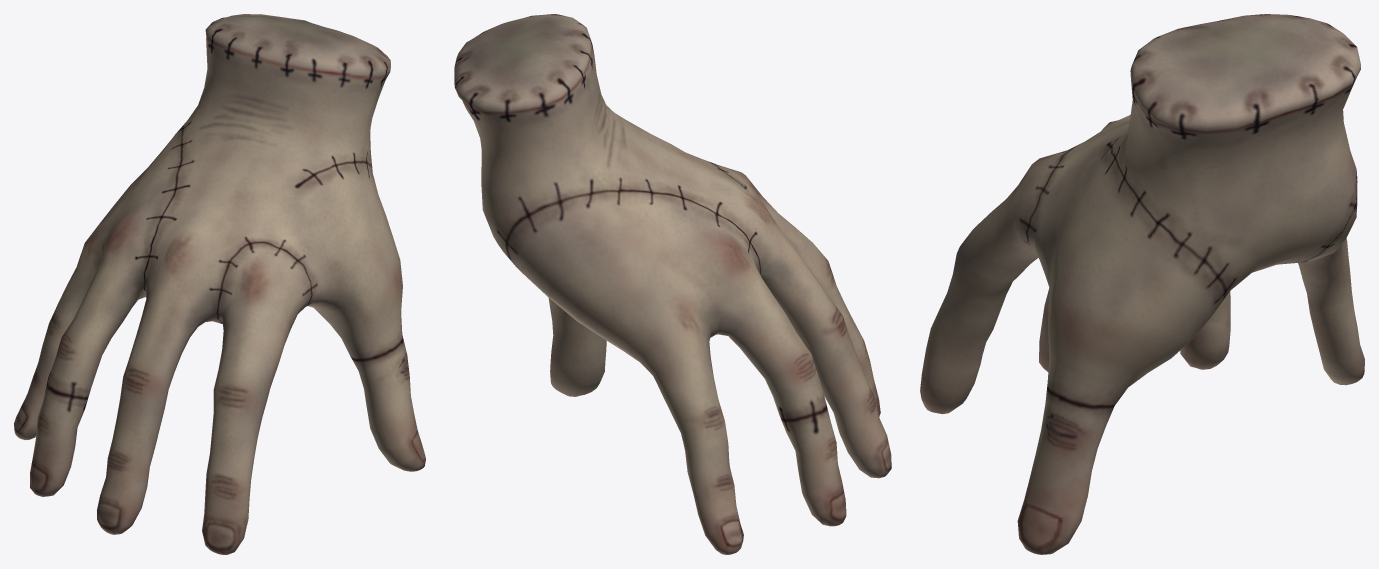
The model's file is hand of wensday  .fbx.
3 renders of one model, left to right at view 1: azimuth 30°, elevation 25°; view 2: azimuth 150°, elevation 25°; view 3: azimuth 270°, elevation 25°, orthographic. The views are drawn at different scales.
Parts seen in each view (by area): view 1: hand_wensday low; view 2: hand_wensday low; view 3: hand_wensday low.
Boxes of the visible parts, x1,y1,x2,y2 form: hand_wensday low: (14, 14, 425, 554); hand_wensday low: (454, 14, 891, 554); hand_wensday low: (920, 14, 1364, 554).
Size of the model in its own units: 21.01 by 22.75 by 18.59.
